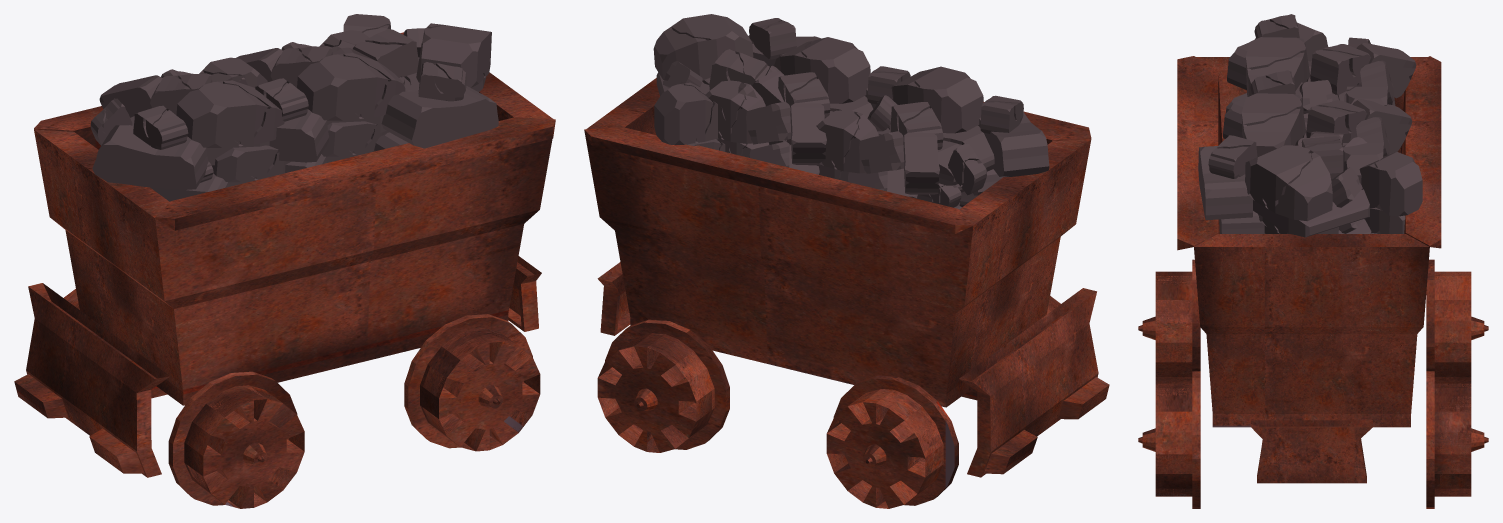
File: KartW_Rocks.fbx
The picture shows the model from 3 angles, left to right: view 1: azimuth 30°, elevation 25°; view 2: azimuth 150°, elevation 25°; view 3: azimuth 270°, elevation 25°; orthographic projection. The views are drawn at different scales.
Visible parts, largest first — view 1: MiningKart, Rocks; view 2: MiningKart, Rocks; view 3: MiningKart, Rocks.
Boxes of the visible parts, x1,y1,x2,y2 form: MiningKart: (14, 32, 555, 508); Rocks: (90, 14, 498, 201); MiningKart: (584, 78, 1109, 508); Rocks: (653, 14, 1049, 209); MiningKart: (1138, 56, 1488, 508); Rocks: (1198, 14, 1422, 237).
Size of the model in its own units: 423 by 338 by 297.
